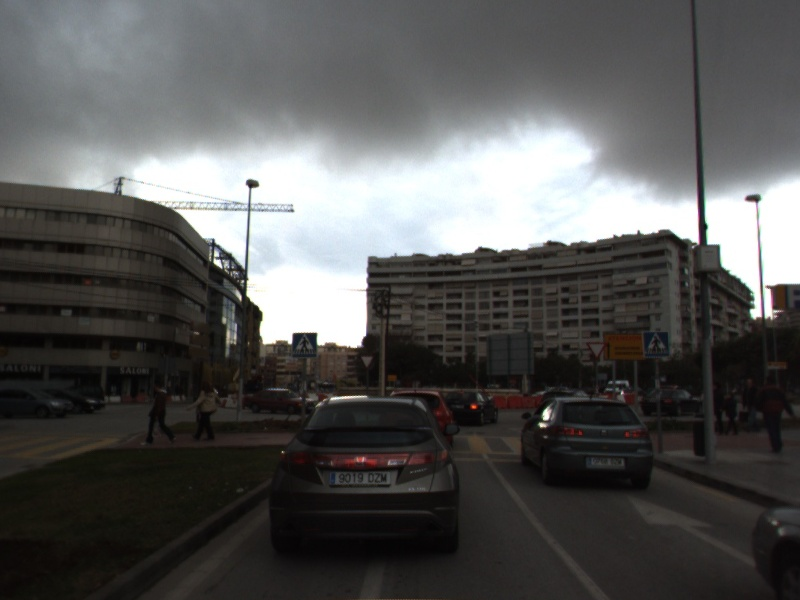STRAIGHT: (624, 490, 756, 567)
